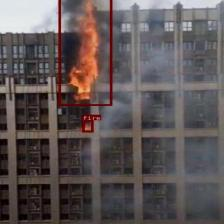fire: (58, 0, 111, 105), (82, 120, 93, 132)
